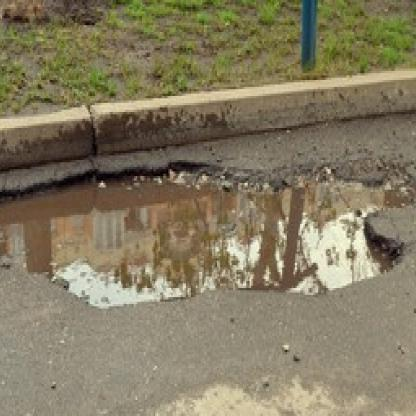pothole: (0, 160, 416, 309)
